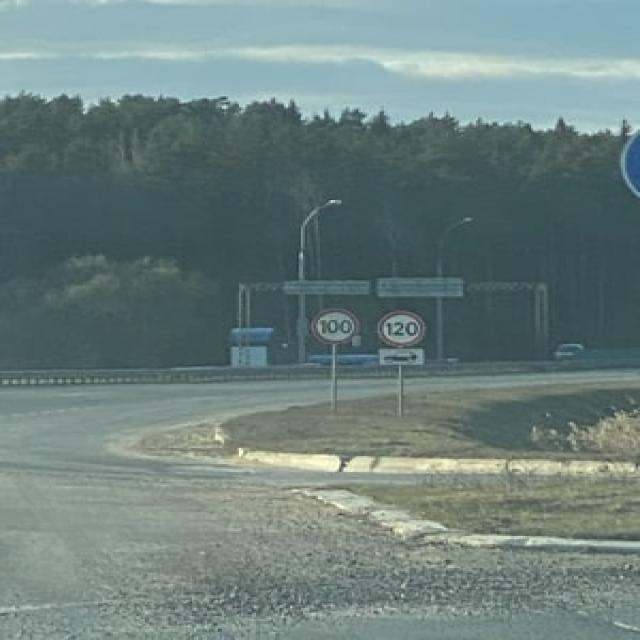Speed Limit -100-: (319, 319, 353, 334)
Speed Limit -120-: (384, 321, 418, 337)
